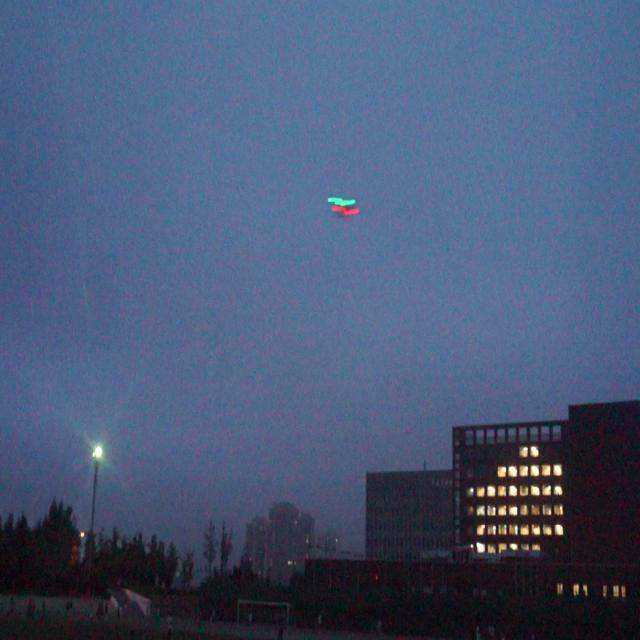UAV: (328, 198, 360, 218)
